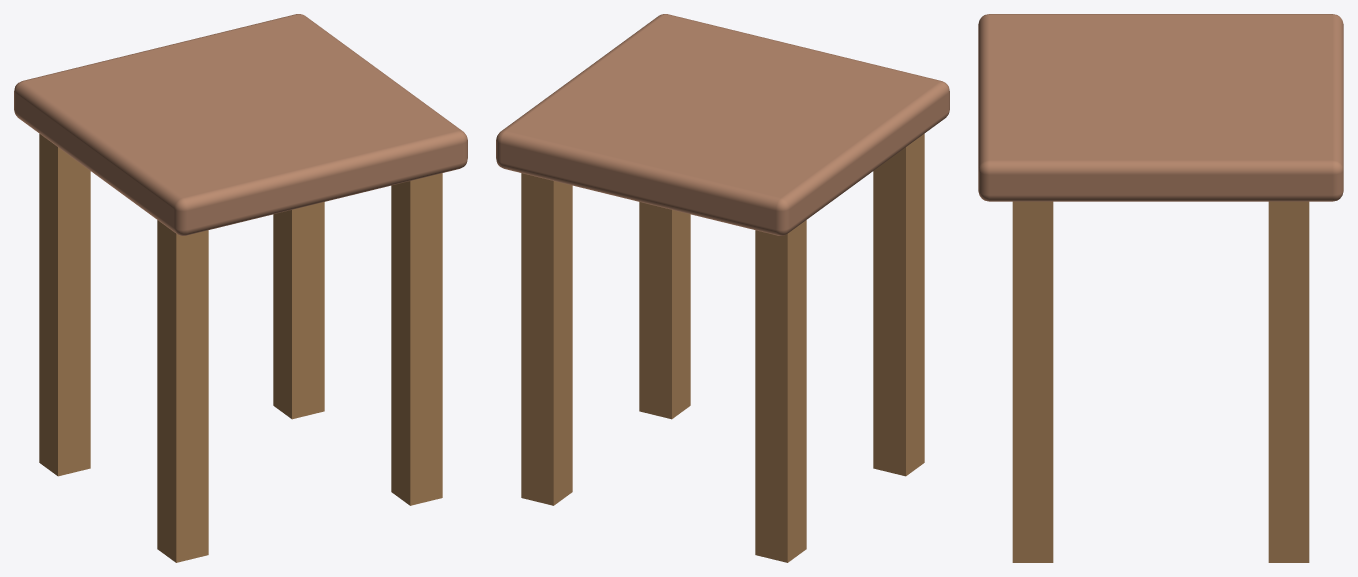
The model's file is side-table.glb.
3 views of the same model, side by side, from view 1: azimuth 30°, elevation 25°; view 2: azimuth 150°, elevation 25°; view 3: azimuth 270°, elevation 25° (orthographic). The views are drawn at different scales.
Visible parts, largest first — view 1: poc-side-table-part-68, poc-side-table-part-70, poc-side-table-part-72, poc-side-table-part-69, poc-side-table-part-71; view 2: poc-side-table-part-68, poc-side-table-part-69, poc-side-table-part-71, poc-side-table-part-70, poc-side-table-part-72; view 3: poc-side-table-part-68, poc-side-table-part-71, poc-side-table-part-72.
Boxes of the visible parts, bbox=[...] form: poc-side-table-part-68: bbox=[14, 14, 467, 235]; poc-side-table-part-70: bbox=[157, 220, 208, 562]; poc-side-table-part-72: bbox=[391, 173, 442, 505]; poc-side-table-part-69: bbox=[39, 134, 90, 476]; poc-side-table-part-71: bbox=[273, 202, 324, 419]; poc-side-table-part-68: bbox=[496, 14, 949, 235]; poc-side-table-part-69: bbox=[755, 220, 806, 562]; poc-side-table-part-71: bbox=[521, 173, 572, 505]; poc-side-table-part-70: bbox=[873, 134, 924, 476]; poc-side-table-part-72: bbox=[639, 202, 690, 419]; poc-side-table-part-68: bbox=[978, 14, 1343, 201]; poc-side-table-part-71: bbox=[1268, 201, 1309, 562]; poc-side-table-part-72: bbox=[1012, 201, 1053, 562].
Size of the model in its own units: 0.45 by 0.55 by 0.45.
